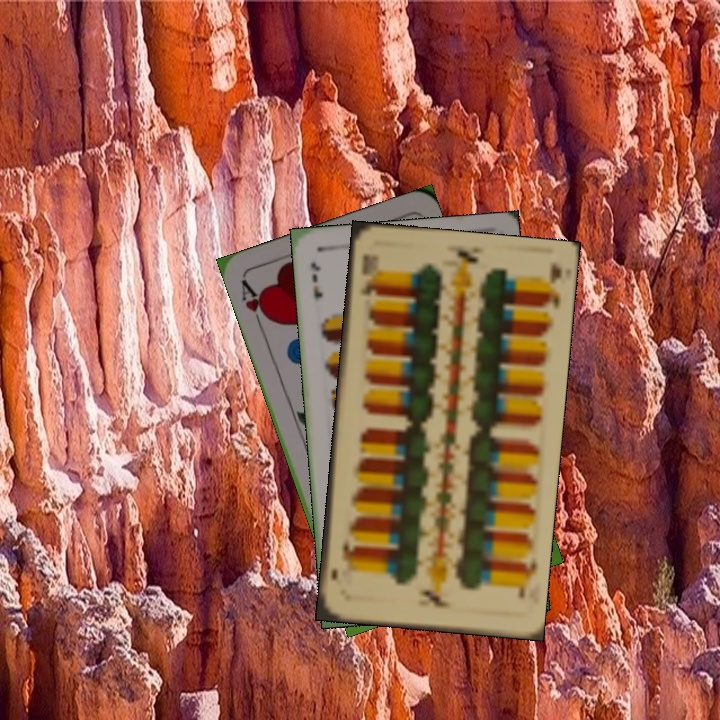E10: (515, 554, 541, 601), (356, 250, 381, 298)
E7: (306, 258, 325, 301)
HA: (237, 276, 273, 333)
